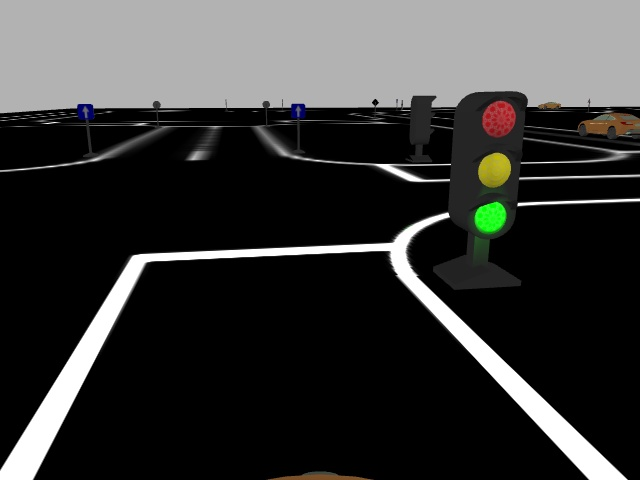green_light: (445, 89, 528, 242)
oneway: (75, 103, 94, 121), (288, 102, 307, 118)
